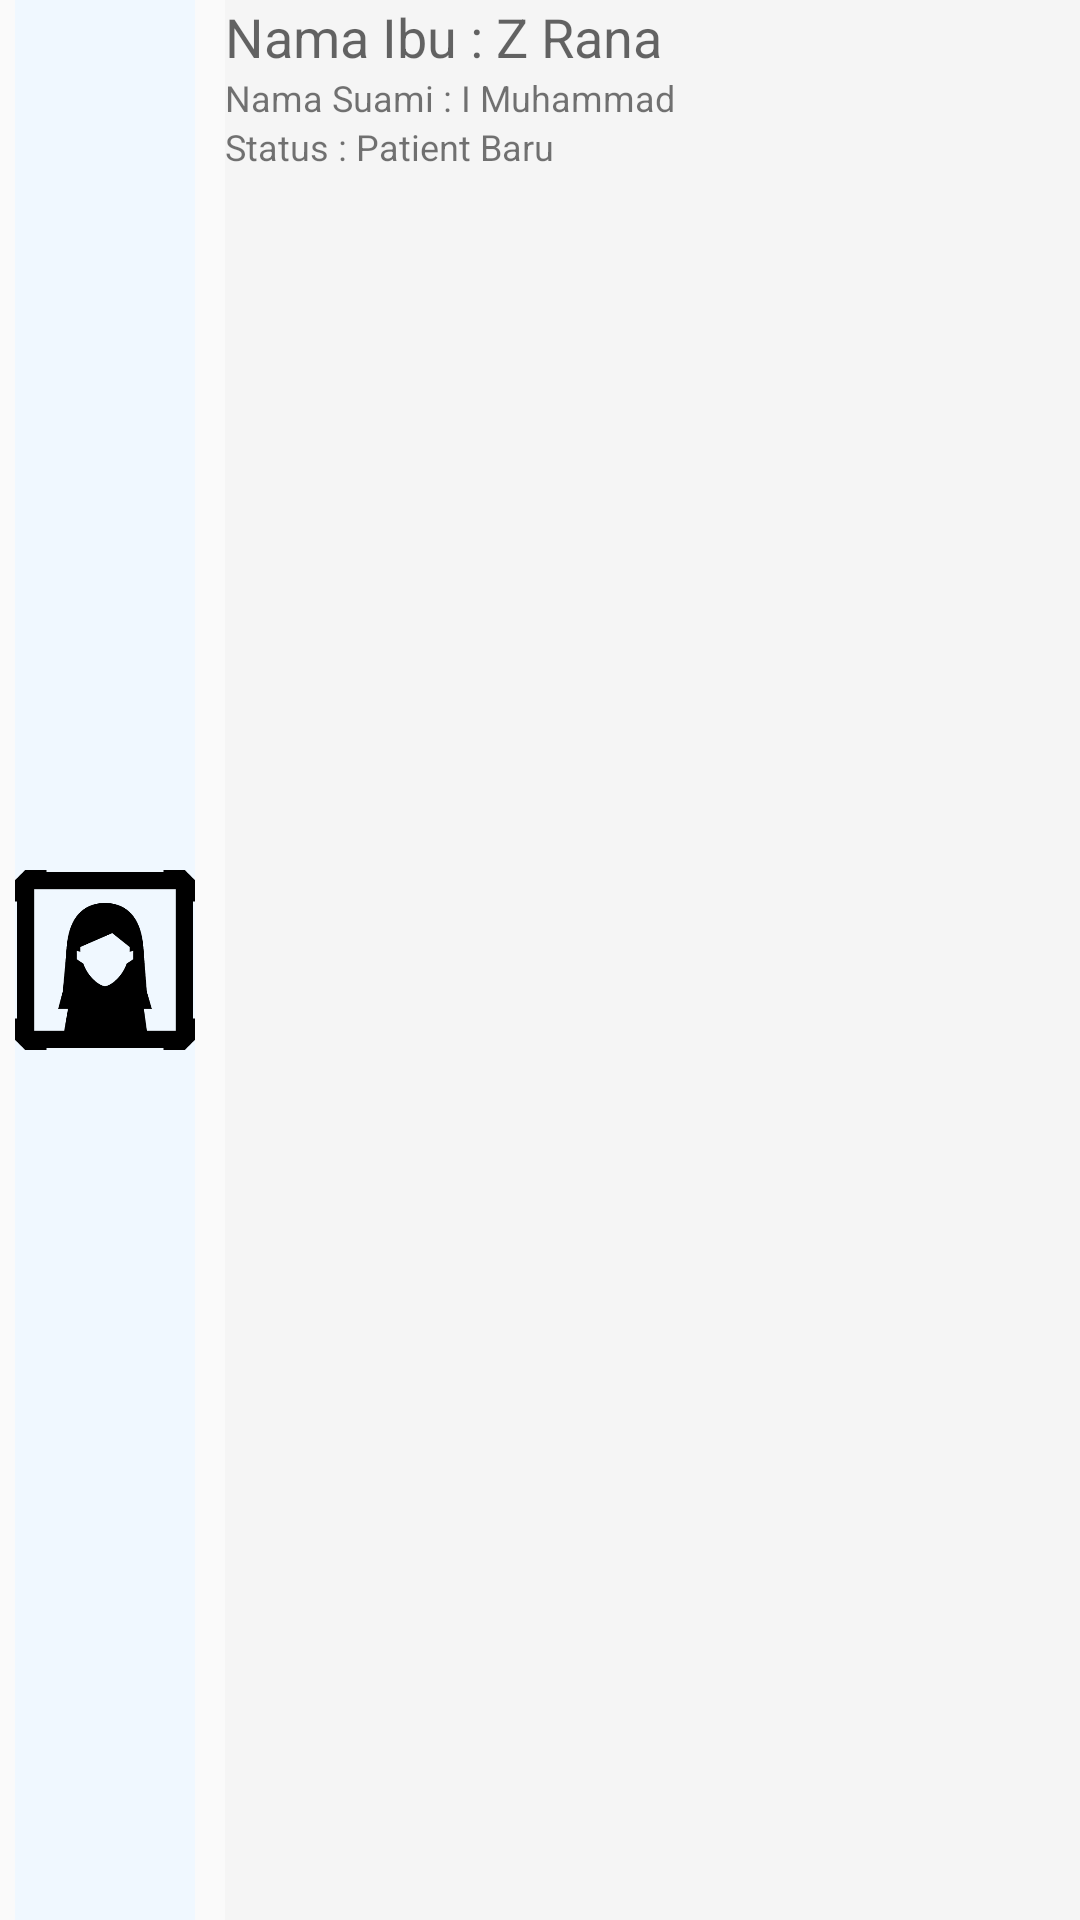

Icon bounding boxes for this 1080px x 1920px phone screenshot, format (x1, y1, x2, y2):
woman: (15, 870, 195, 1050)
